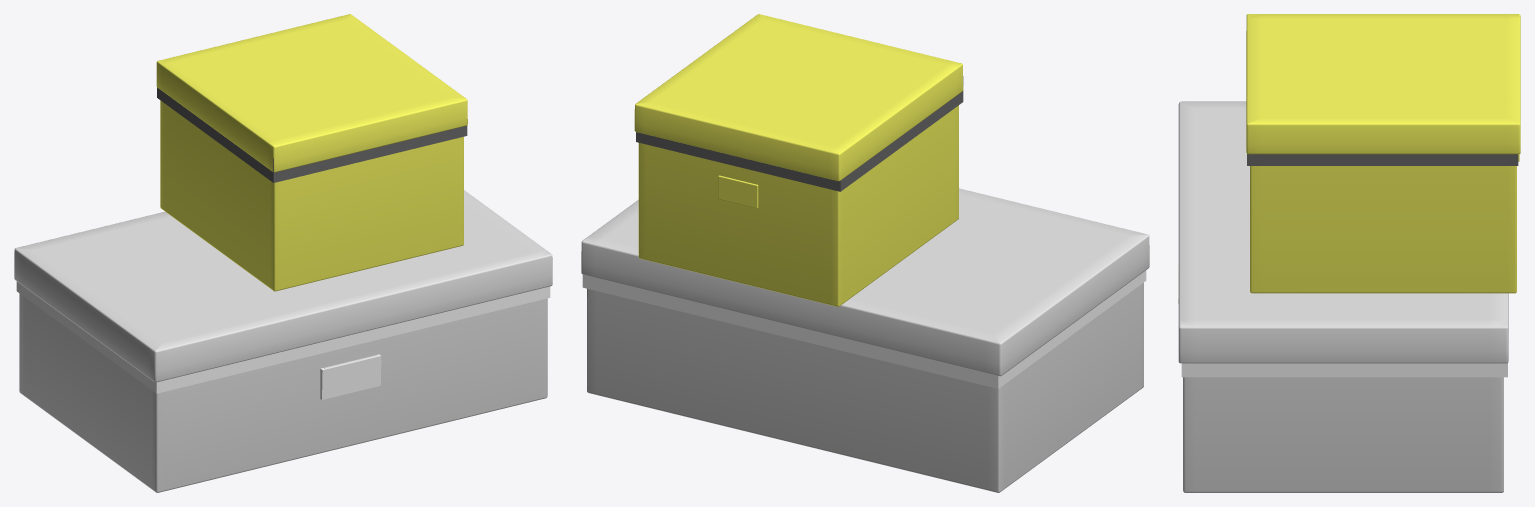
The model's file is stackedBoxes1.glb.
3 views of the same model, side by side, from view 1: azimuth 30°, elevation 25°; view 2: azimuth 150°, elevation 25°; view 3: azimuth 270°, elevation 25° (orthographic). The views are drawn at different scales.
Visible parts, largest first — view 1: Box_014, Box_017, Box66787330, Box66787343, Box66787331; view 2: Box_014, Box_017, Box66787330, Box66787343; view 3: Box_014, Box_017, Box66787330, Box66787343.
Part boxes in pixels (<box>): Box_014: <box>14,190,552,492</box>; Box_017: <box>156,14,467,291</box>; Box66787330: <box>16,281,550,393</box>; Box66787343: <box>157,87,467,182</box>; Box66787331: <box>320,354,381,399</box>; Box_014: <box>581,188,1149,492</box>; Box_017: <box>634,14,963,306</box>; Box66787330: <box>582,270,1146,388</box>; Box66787343: <box>636,76,963,191</box>; Box_014: <box>1178,101,1508,492</box>; Box_017: <box>1246,14,1520,293</box>; Box66787330: <box>1181,363,1507,377</box>; Box66787343: <box>1247,154,1518,165</box>.
Size of the model in its own units: 0.4169 by 0.2919 by 0.2667.
